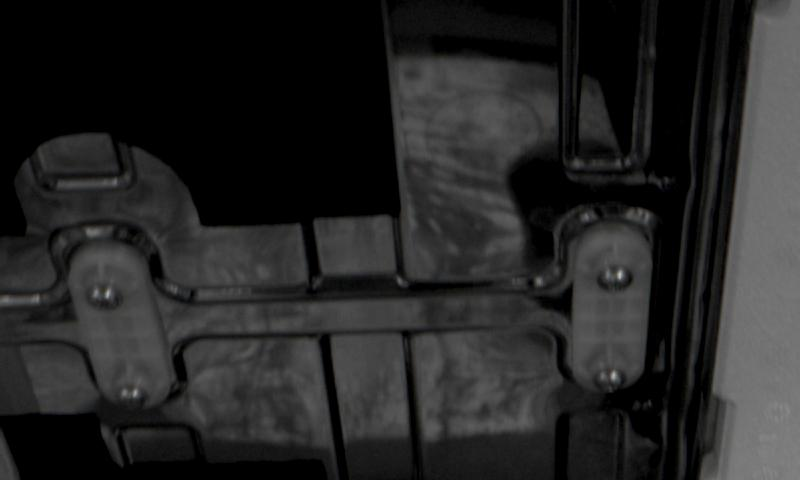vida-ok: (594, 253, 638, 298), (82, 273, 122, 318), (106, 384, 148, 424), (593, 360, 633, 398)
